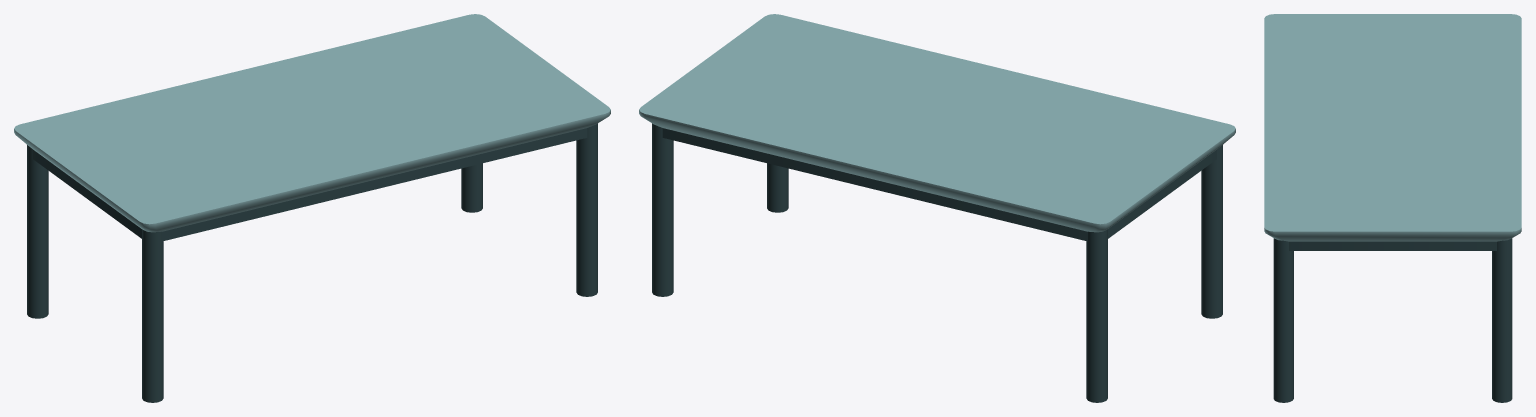
The model's file is EM_133_blue_table_var3.glb.
The picture shows the model from 3 angles, left to right: view 1: azimuth 30°, elevation 25°; view 2: azimuth 150°, elevation 25°; view 3: azimuth 270°, elevation 25°; orthographic projection. The views are drawn at different scales.
Parts seen in each view (by area): view 1: table_var3, legs_var3; view 2: table_var3, legs_var3; view 3: table_var3, legs_var3.
Boxes of the visible parts, <box> form: table_var3: <box>14,14,610,241</box>; legs_var3: <box>27,123,597,402</box>; table_var3: <box>639,14,1235,241</box>; legs_var3: <box>652,123,1222,402</box>; table_var3: <box>1264,14,1521,250</box>; legs_var3: <box>1273,238,1512,402</box>.
Bounding box in the file's own units: 3 × 1.12 × 1.5.
